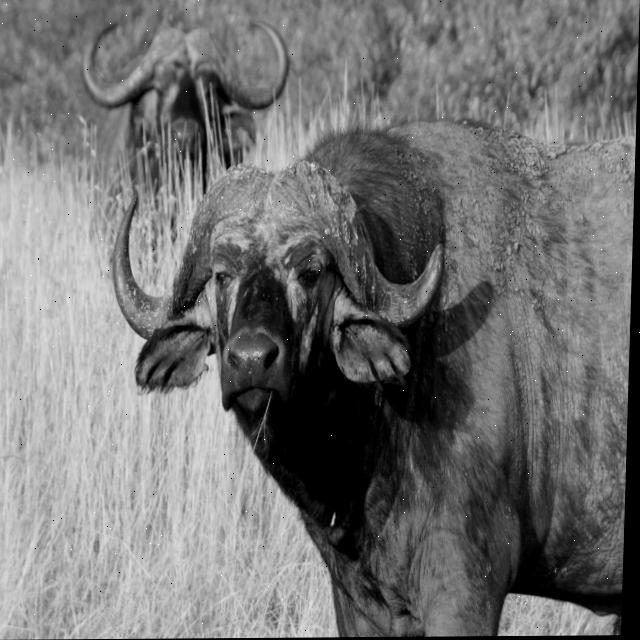Buffalo: (104, 118, 633, 639), (78, 18, 291, 185)
